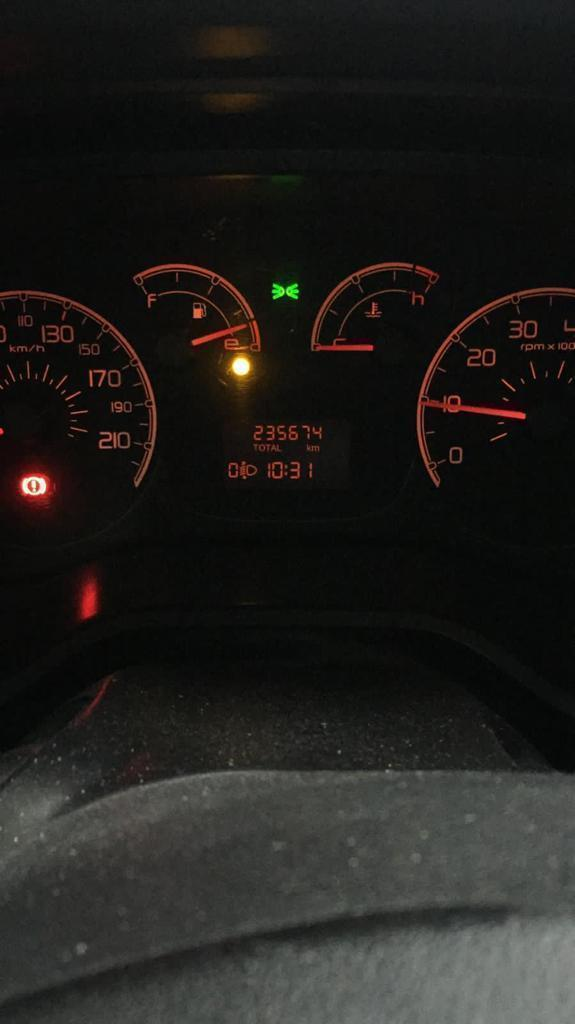0: (271, 460, 282, 479), (227, 462, 238, 478)
1: (308, 461, 314, 480), (266, 461, 270, 479)
2: (253, 424, 263, 440)
3: (289, 460, 300, 479), (266, 423, 275, 441)
4: (312, 426, 322, 439)
5: (276, 424, 286, 440)
6: (288, 424, 298, 440)
7: (301, 424, 311, 440)
X: (311, 444, 320, 452), (276, 443, 283, 452), (258, 443, 265, 451), (252, 442, 258, 451), (284, 463, 288, 476), (306, 442, 311, 452), (265, 443, 271, 451), (271, 443, 276, 451)
odometer: (217, 414, 341, 487)
